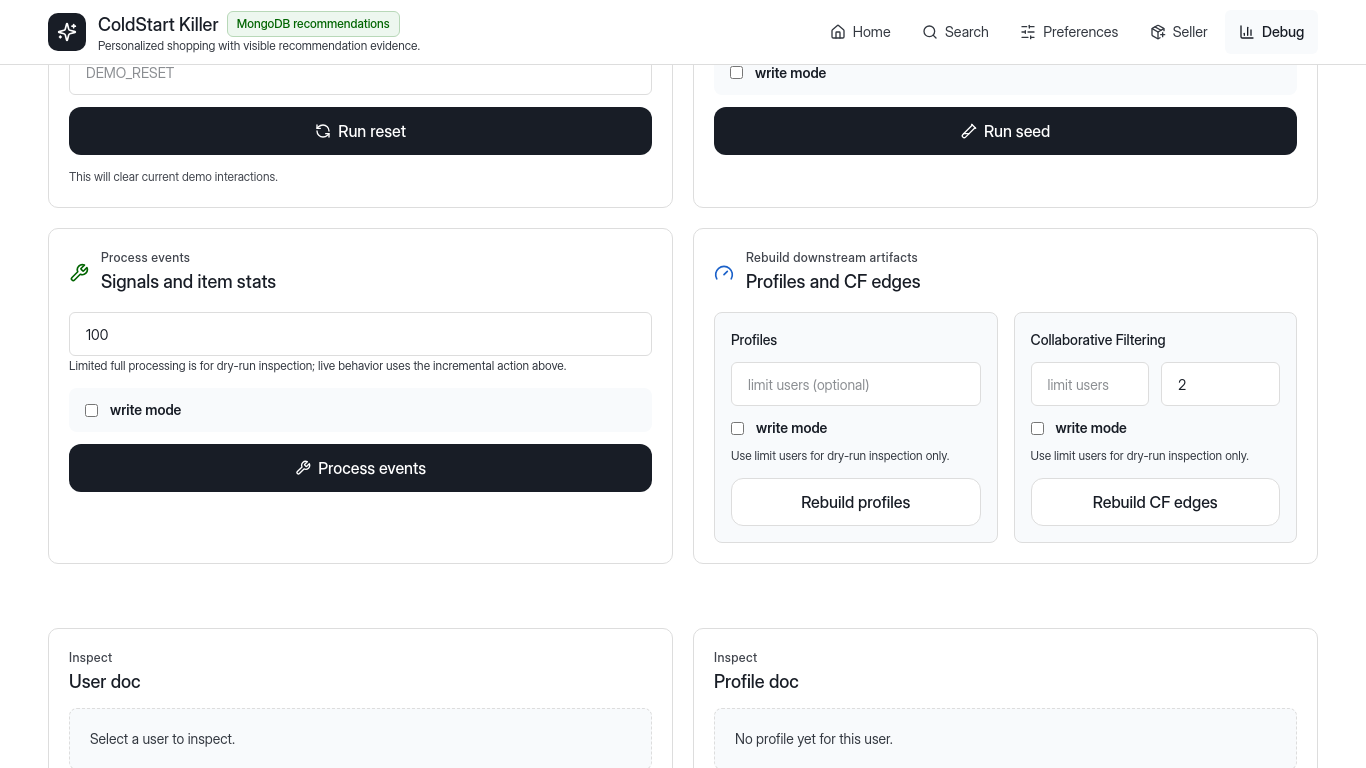
Test: Phase 11 routes › disables authoritative profile rebuild when a user limit is present
(page scrolled)
Expected: the text "Profiles" is shown, [731, 331, 777, 348]
Type "5" into the field with placeholder "limit users (optional)" at (856, 384), box [731, 362, 980, 406]
(page scrolled)
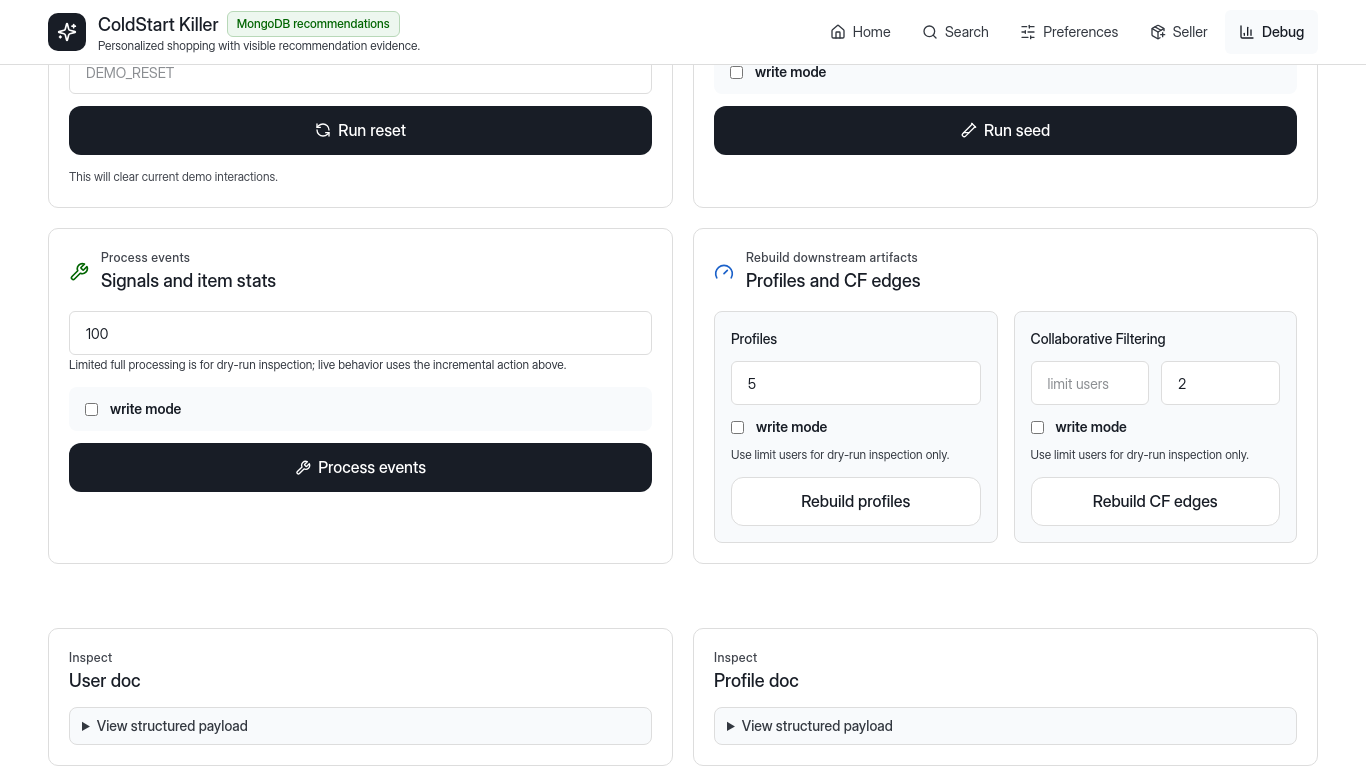
Click the 3rd checkbox labelled "write mode" at (738, 427), box [731, 421, 744, 434]
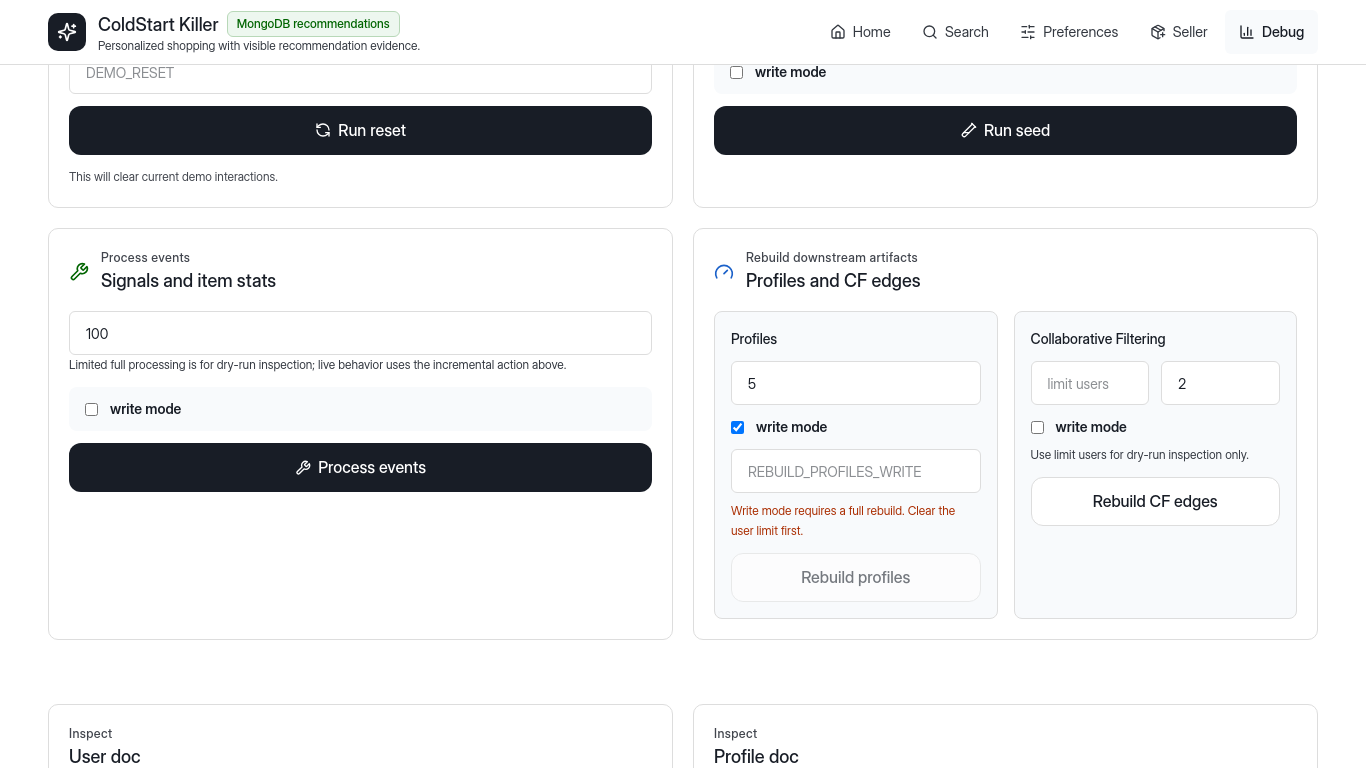
Now the text "Write mode requires a full rebuild. Clear the user limit first." is shown, box [731, 501, 980, 541]
Now the button "Rebuild profiles" is disabled, box [731, 553, 980, 602]
